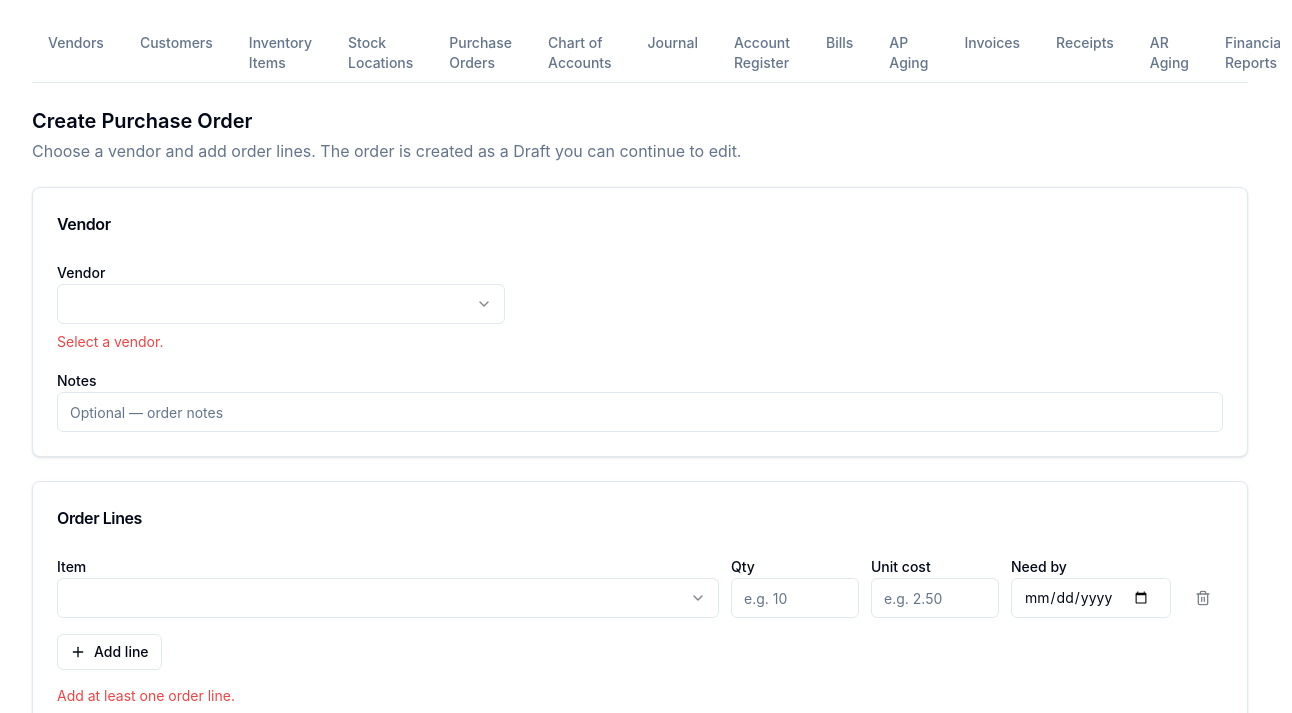
Test: PurchaseOrderCreate screen › blocks submit until a vendor is selected
Expected: the heading "Create Purchase Order" is shown, [32,109,252,133]
Click the dropdown named "Item for line 1". click: [698, 598]
box: [57,578,719,618]
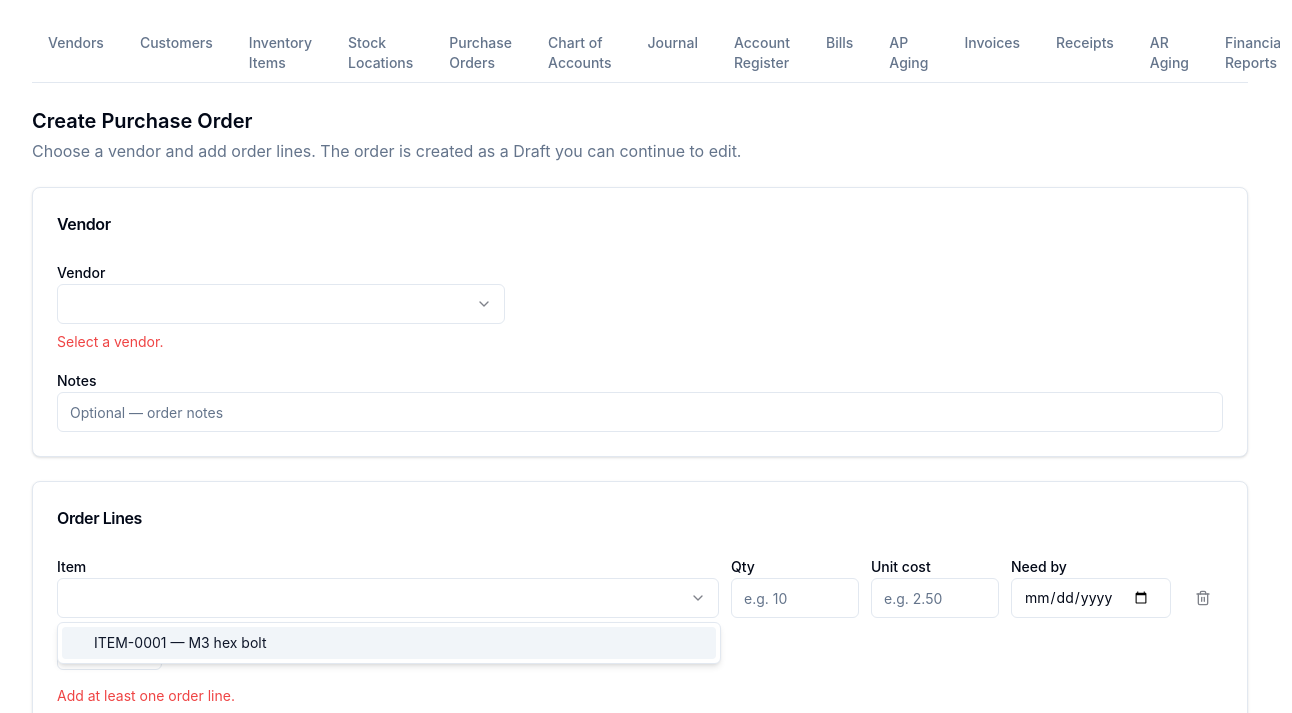
Click the option "ITEM-0001 — M3 hex bolt". click: [130, 642]
box: [62,627,716,659]
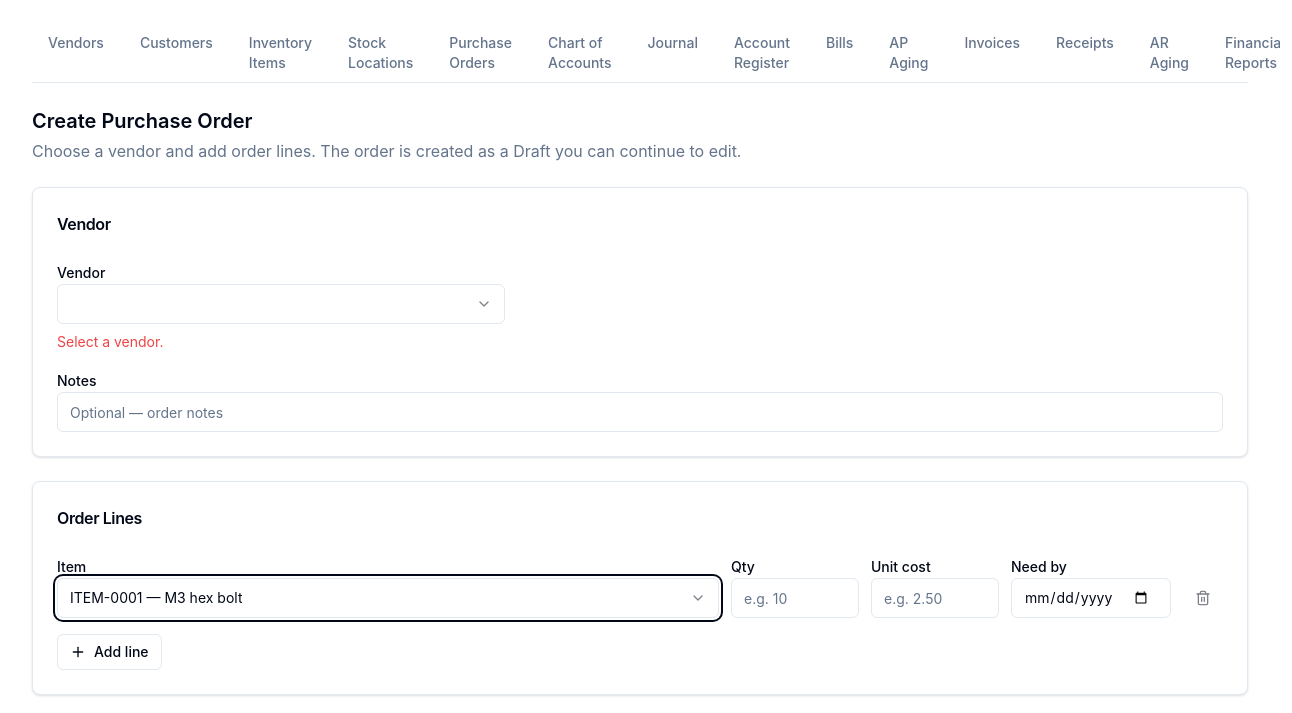
Type "10" into the field labelled "Qty". click: [795, 598]
box: [731,578,859,618]
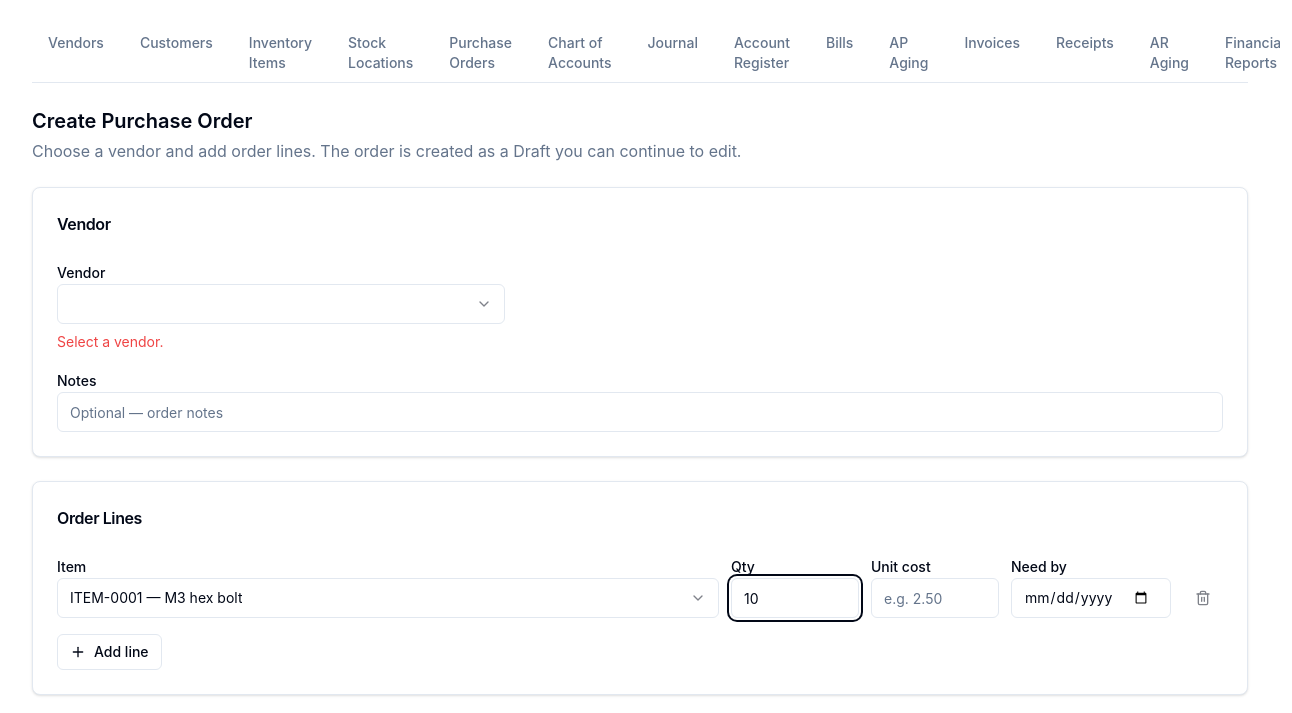
Type "2.50" into the field labelled "Unit cost". click: [935, 598]
box: [871,578,999,618]
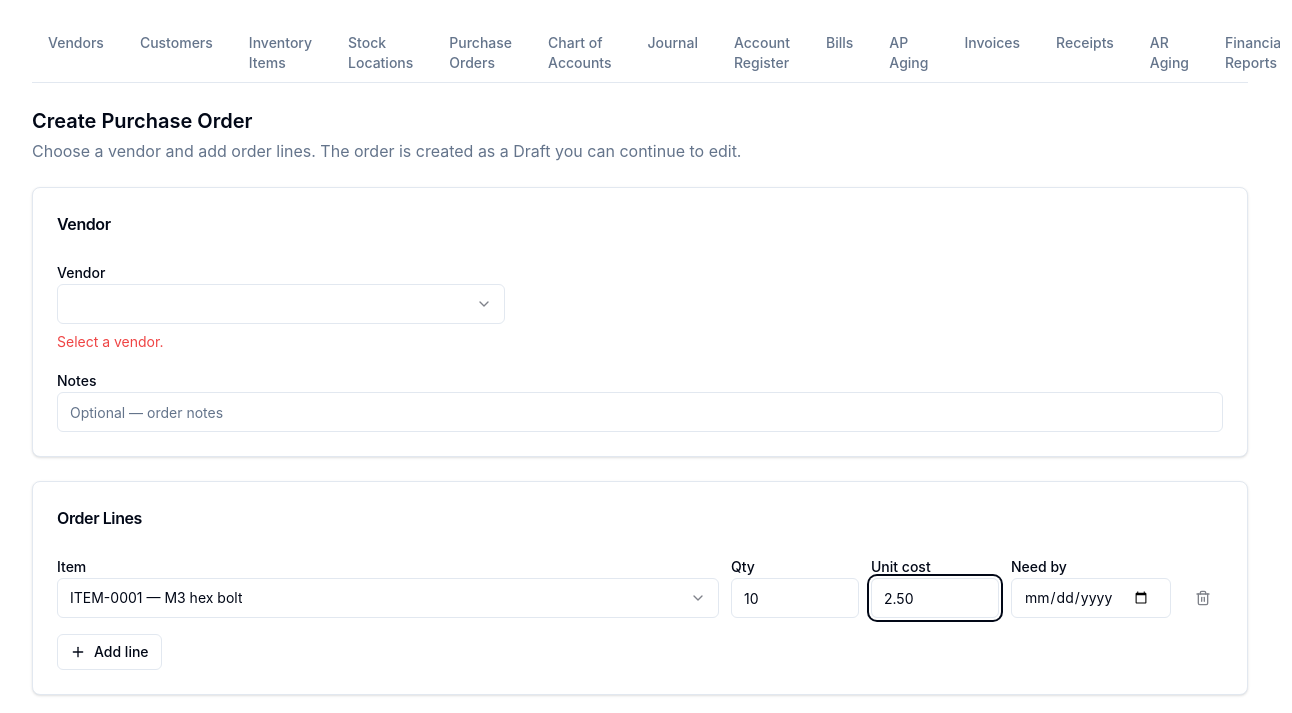
Click the dropdown named "Vendor". click: [484, 304]
box: [57,284,505,324]
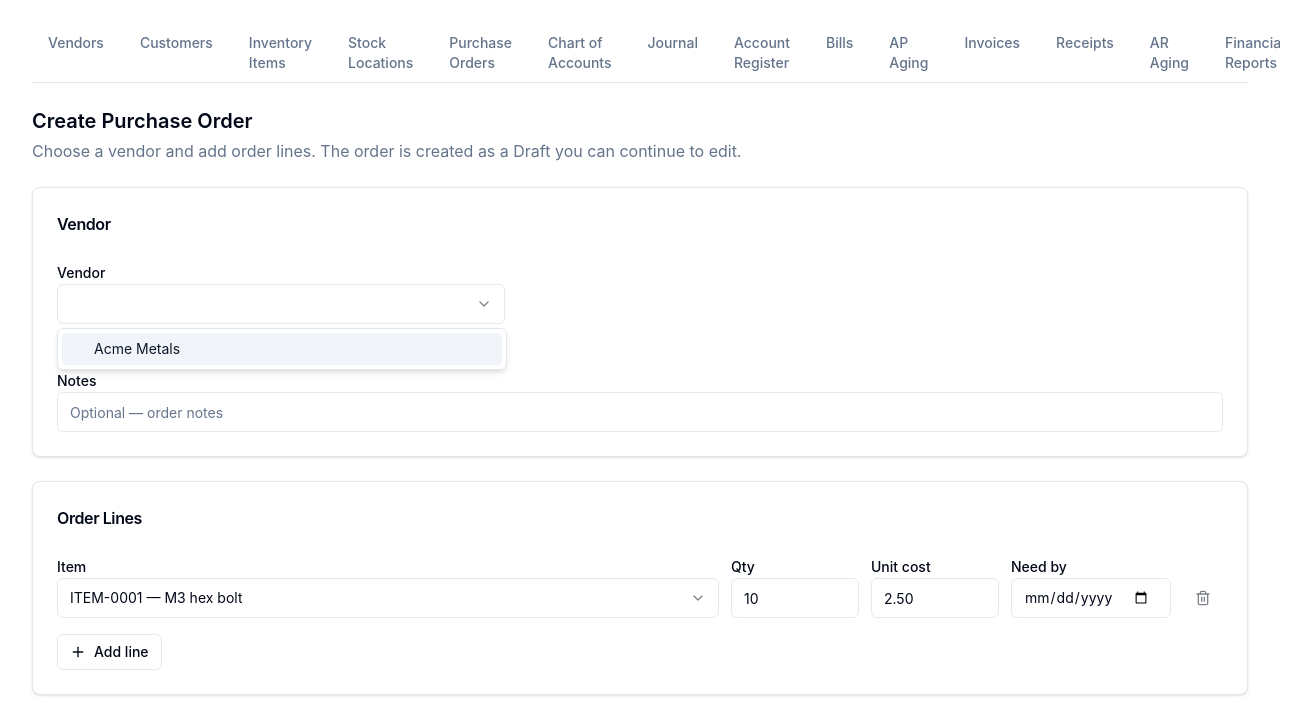
Click the option "Acme Metals". click: [137, 348]
box: [62,333,502,365]
(page scrolled)
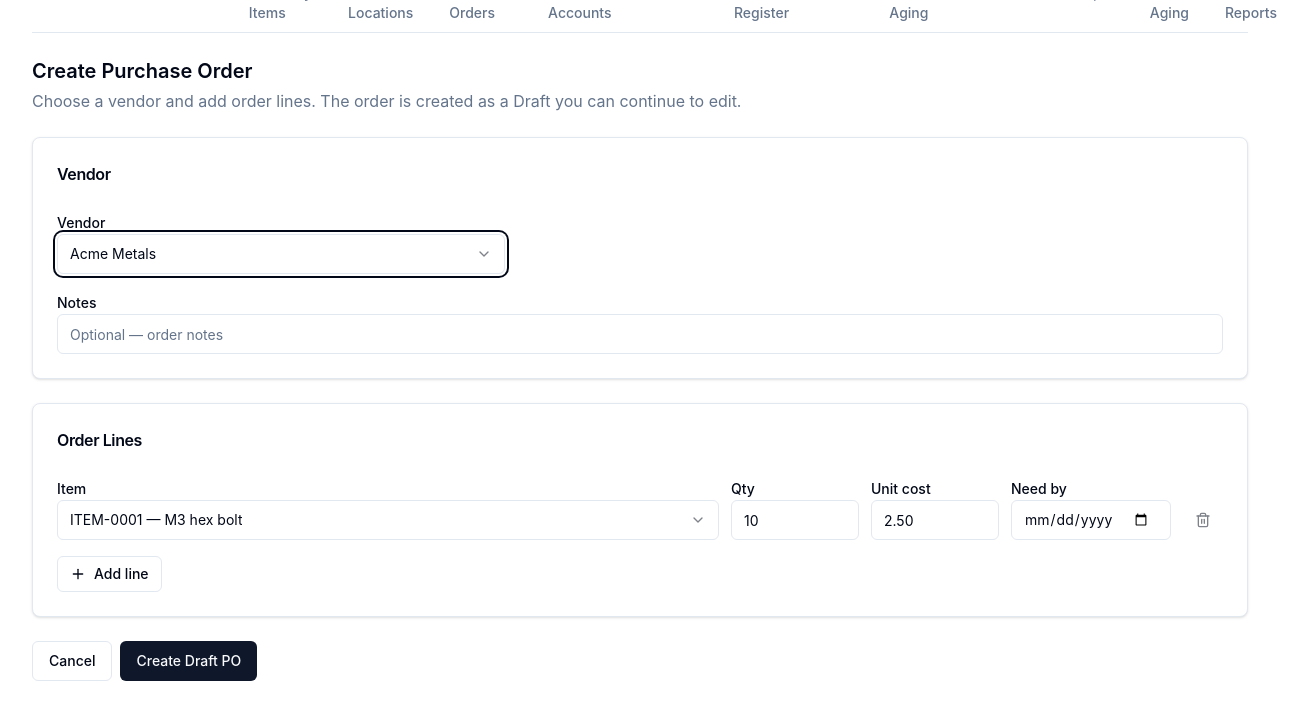
Expected: the button "Create Draft PO" is enabled, [120,641,257,681]
